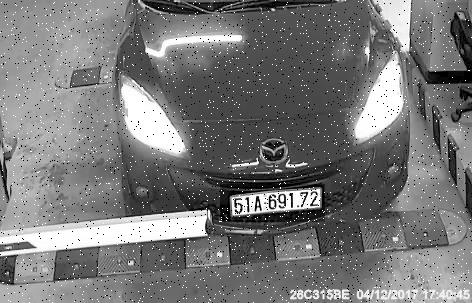License-plate: (221, 185, 326, 223)
